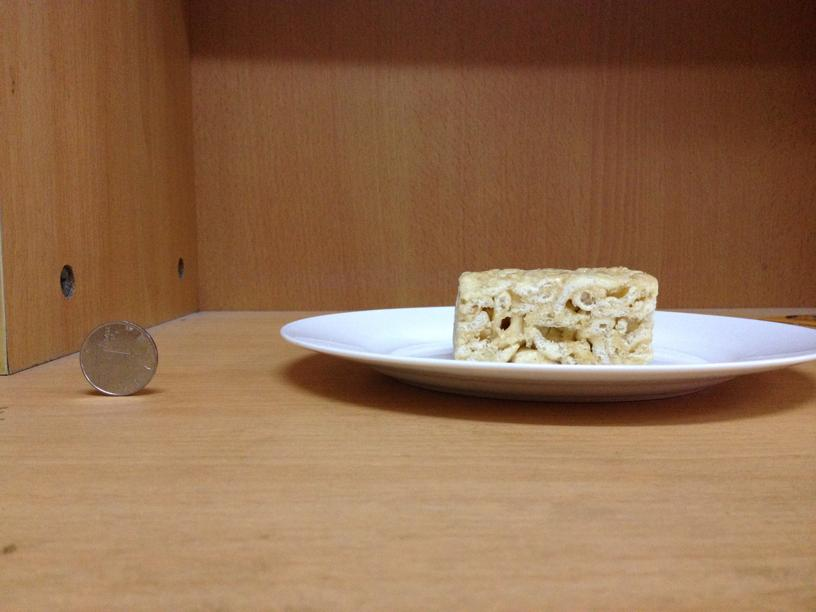coin: (76, 323, 157, 395)
sachima: (448, 264, 657, 364)
